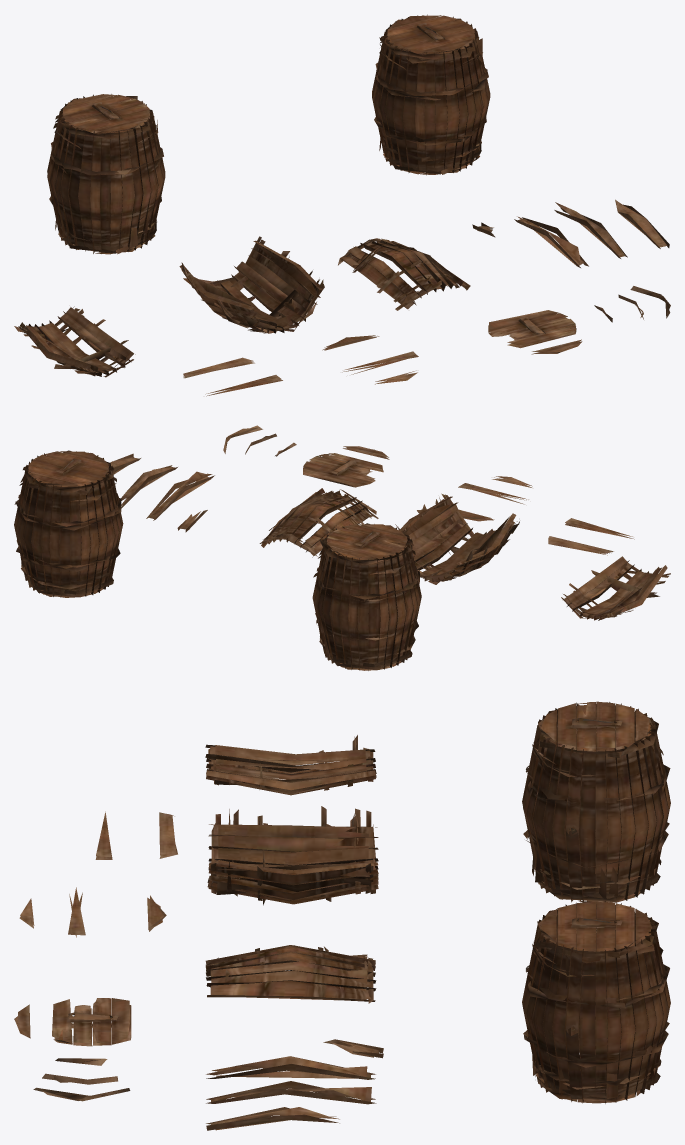
Rendered from wooden_barrels_01.glb.
3 renders of one model, top to bottom at view 1: azimuth 30°, elevation 25°; view 2: azimuth 150°, elevation 25°; view 3: azimuth 270°, elevation 25°, orthographic. The views are drawn at different scales.
Parts seen in each view (by area): view 1: wooden_barrels_01_barrel01, wooden_barrels_01_barrel02, wooden_barrels_01_piece01, wooden_barrels_01_piece03, wooden_barrels_01_piece02, wooden_barrels_01_piece08, wooden_barrels_01_piece04, wooden_barrels_01_piece05, wooden_barrels_01_piece06; view 2: wooden_barrels_01_barrel02, wooden_barrels_01_barrel01, wooden_barrels_01_piece01, wooden_barrels_01_piece02, wooden_barrels_01_piece03, wooden_barrels_01_piece08, wooden_barrels_01_piece04, wooden_barrels_01_piece05, wooden_barrels_01_piece13, wooden_barrels_01_piece14; view 3: wooden_barrels_01_barrel01, wooden_barrels_01_barrel02, wooden_barrels_01_piece01, wooden_barrels_01_piece03, wooden_barrels_01_piece02, wooden_barrels_01_piece08, wooden_barrels_01_piece04, wooden_barrels_01_piece05, wooden_barrels_01_piece06, wooden_barrels_01_piece13.
Boxes of the visible parts, x1,y1,x2,y2 form: wooden_barrels_01_barrel01: [372, 14, 490, 175]; wooden_barrels_01_barrel02: [47, 94, 165, 254]; wooden_barrels_01_piece01: [179, 236, 324, 333]; wooden_barrels_01_piece03: [338, 238, 470, 310]; wooden_barrels_01_piece02: [14, 306, 135, 377]; wooden_barrels_01_piece08: [488, 310, 576, 348]; wooden_barrels_01_piece04: [514, 216, 588, 267]; wooden_barrels_01_piece05: [554, 202, 627, 258]; wooden_barrels_01_piece06: [615, 199, 669, 248]; wooden_barrels_01_barrel02: [312, 523, 421, 670]; wooden_barrels_01_barrel01: [14, 450, 123, 597]; wooden_barrels_01_piece01: [395, 493, 519, 584]; wooden_barrels_01_piece02: [561, 556, 670, 620]; wooden_barrels_01_piece03: [259, 488, 378, 557]; wooden_barrels_01_piece08: [303, 453, 383, 487]; wooden_barrels_01_piece04: [146, 471, 214, 520]; wooden_barrels_01_piece05: [121, 465, 177, 508]; wooden_barrels_01_piece13: [548, 536, 613, 555]; wooden_barrels_01_piece14: [565, 518, 634, 539]; wooden_barrels_01_barrel01: [522, 901, 670, 1103]; wooden_barrels_01_barrel02: [522, 701, 670, 903]; wooden_barrels_01_piece01: [207, 806, 378, 905]; wooden_barrels_01_piece03: [205, 945, 376, 1003]; wooden_barrels_01_piece02: [205, 735, 376, 795]; wooden_barrels_01_piece08: [52, 998, 131, 1046]; wooden_barrels_01_piece04: [206, 1056, 375, 1079]; wooden_barrels_01_piece05: [206, 1081, 376, 1104]; wooden_barrels_01_piece06: [206, 1107, 339, 1130]; wooden_barrels_01_piece13: [159, 812, 177, 858].
Size of the model in its own units: 4.44 by 0.9495 by 3.36.
3 materials, 3 textured.
